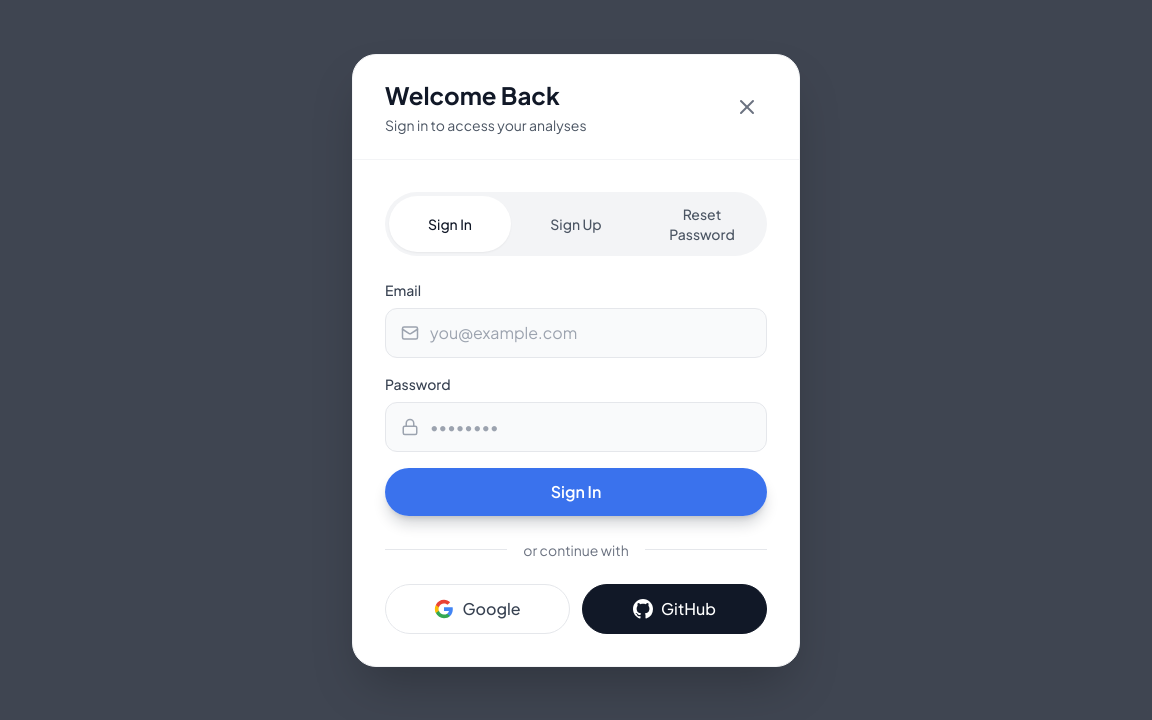
AuthModal › tabs › should switch to Sign Up tab when clicked
The width and height of the screenshot is (1152, 720).
// Click the Sign Up tab button
Click the button "Sign Up".
click(576, 224)  # box left=515, top=196, right=637, bottom=252
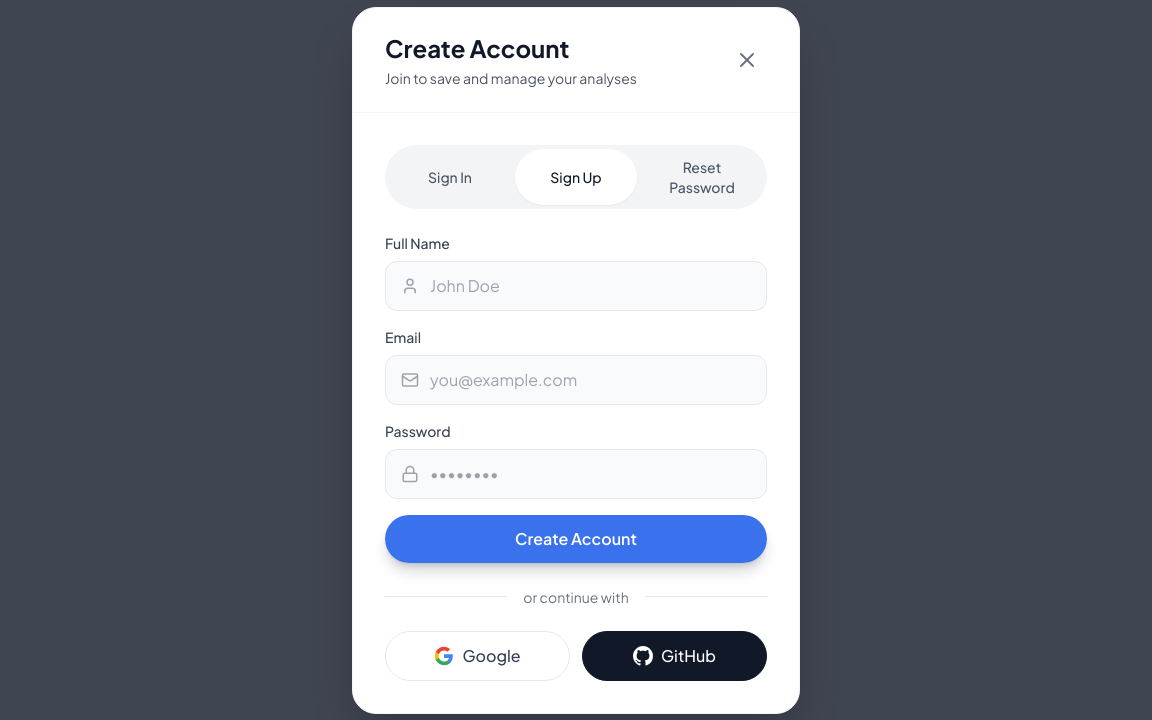
Now the text "Join to save and manage your analyses" is shown, box left=385, top=68, right=637, bottom=88
